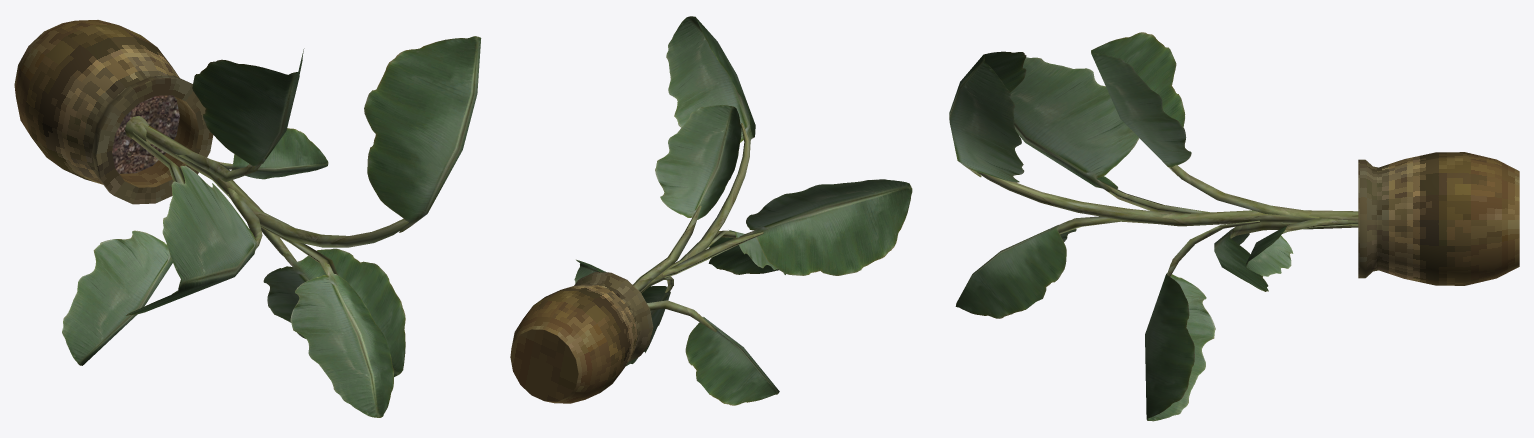
File: nt_2020_greenhouse_plant_01_LOD0.obj
3 views of the same model, side by side, from view 1: azimuth 30°, elevation 25°; view 2: azimuth 150°, elevation 25°; view 3: azimuth 270°, elevation 25° (orthographic). The views are drawn at different scales.
Visible parts, largest first — view 1: mtl_potted_plant01, mtl_pb_plant_pot, mtl_flower_pot_dirt; view 2: mtl_potted_plant01, mtl_pb_plant_pot; view 3: mtl_potted_plant01, mtl_pb_plant_pot.
Part boxes in pixels (x1,y1,x2,y2): mtl_potted_plant01: (62, 36, 481, 417); mtl_pb_plant_pot: (14, 20, 213, 204); mtl_flower_pot_dirt: (112, 95, 179, 173); mtl_potted_plant01: (574, 16, 912, 405); mtl_pb_plant_pot: (510, 272, 653, 403); mtl_potted_plant01: (949, 32, 1358, 421); mtl_pb_plant_pot: (1358, 152, 1519, 285).
Size of the model in its own units: 134 by 132 by 183.
